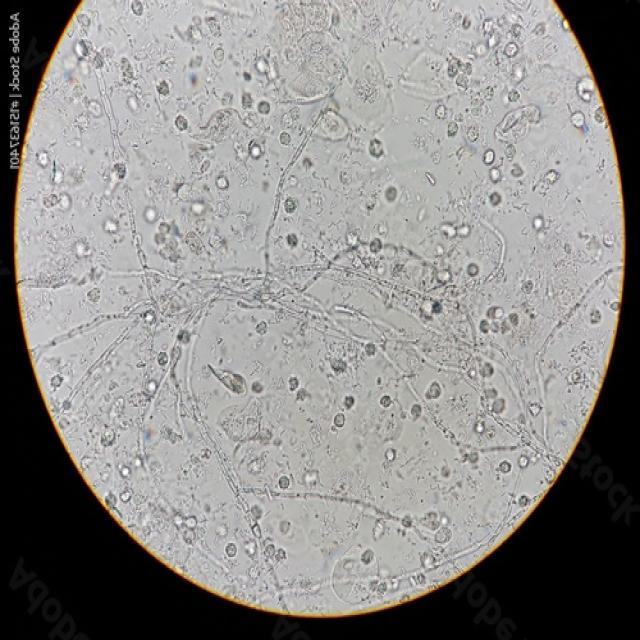Hydra: (11, 2, 626, 621)
